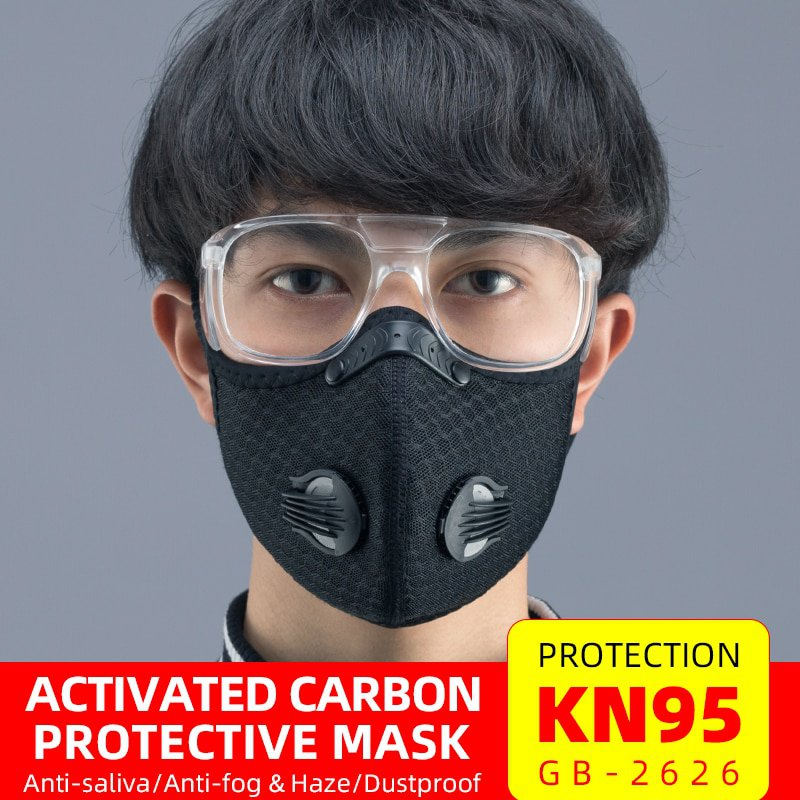mask: (132, 9, 687, 623)
